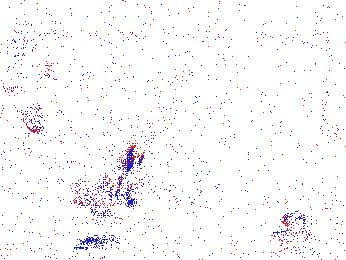flame jellyfish: (73, 146, 144, 221), (270, 187, 346, 246), (1, 51, 54, 134)
